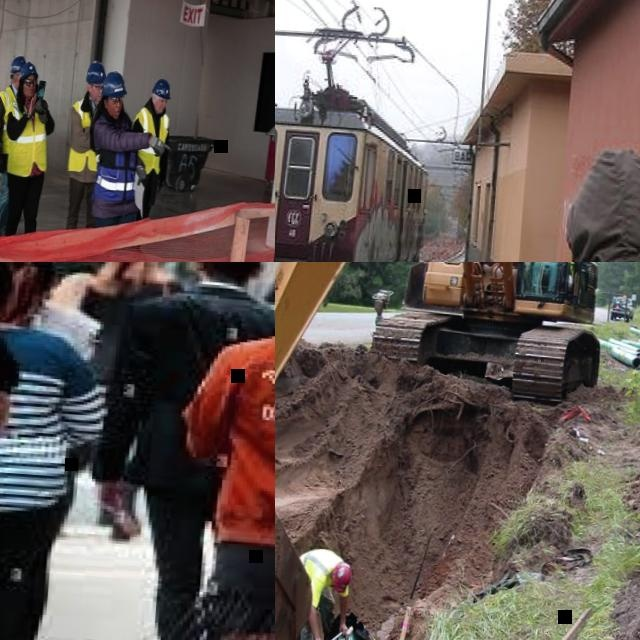Hardhat: (102, 69, 129, 98), (333, 561, 355, 593), (85, 60, 106, 84), (152, 78, 172, 100), (19, 59, 39, 81), (10, 54, 27, 74)
NO-Hardhat: (564, 142, 640, 228), (0, 262, 59, 288), (0, 262, 13, 314)
NO-Mask: (111, 106, 121, 118), (25, 87, 36, 97), (154, 103, 164, 112), (92, 93, 102, 101)
NO-Safety Vest: (138, 286, 275, 482), (203, 327, 275, 542), (0, 324, 75, 502), (86, 277, 170, 317)
Person: (71, 262, 275, 640), (0, 262, 118, 640), (165, 262, 275, 640), (65, 262, 186, 548), (79, 68, 176, 262), (0, 264, 43, 640), (0, 59, 58, 262), (124, 76, 174, 252), (63, 58, 108, 230), (290, 541, 356, 640), (0, 53, 28, 235), (527, 262, 565, 291)
Safety Vest: (86, 112, 141, 201), (0, 98, 53, 178), (295, 544, 353, 609), (129, 105, 170, 175), (67, 97, 104, 173), (0, 86, 18, 152)
machinery: (275, 262, 621, 640)
vehicle: (610, 292, 635, 324)
